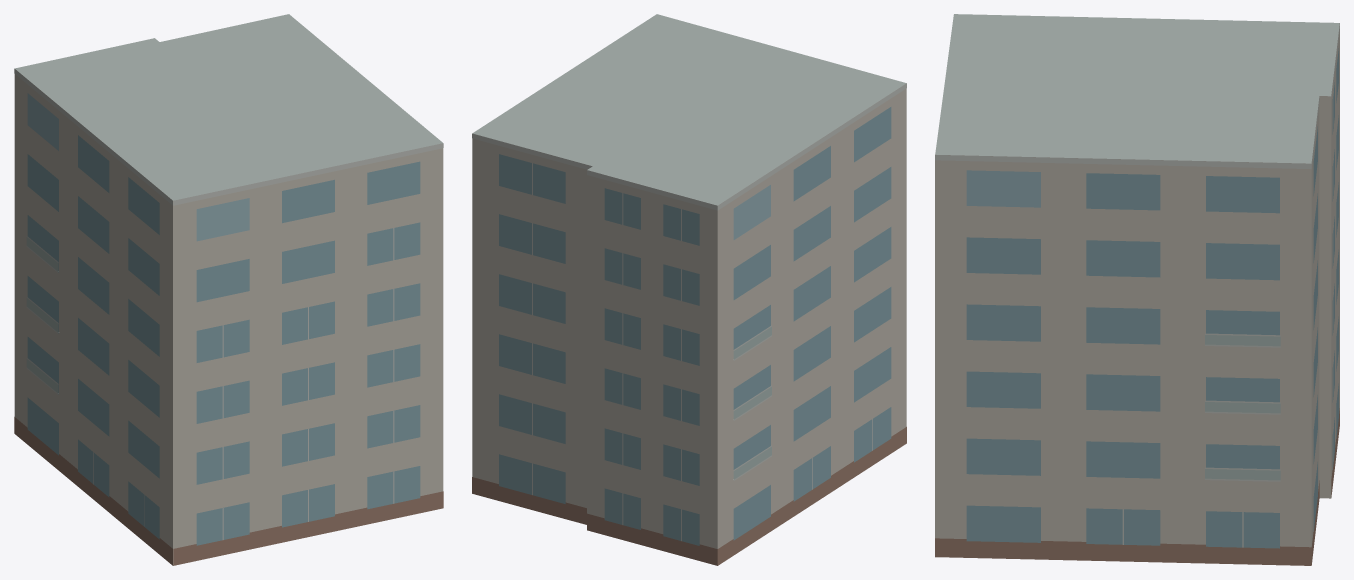
File: survey-upis-32662774.glb
The picture shows the model from 3 angles, left to right: view 1: azimuth 30°, elevation 25°; view 2: azimuth 150°, elevation 25°; view 3: azimuth 270°, elevation 25°; orthographic projection. The views are drawn at different scales.
Parts seen in each view (by area): view 1: survey-upis-32662774.tmp; view 2: survey-upis-32662774.tmp; view 3: survey-upis-32662774.tmp.
Boxes of the visible parts, x1,y1,x2,y2 form: survey-upis-32662774.tmp: [14, 14, 443, 565]; survey-upis-32662774.tmp: [472, 14, 906, 565]; survey-upis-32662774.tmp: [935, 14, 1339, 565].
Bounding box in the file's own units: 14.04 × 17.6 × 16.06.
